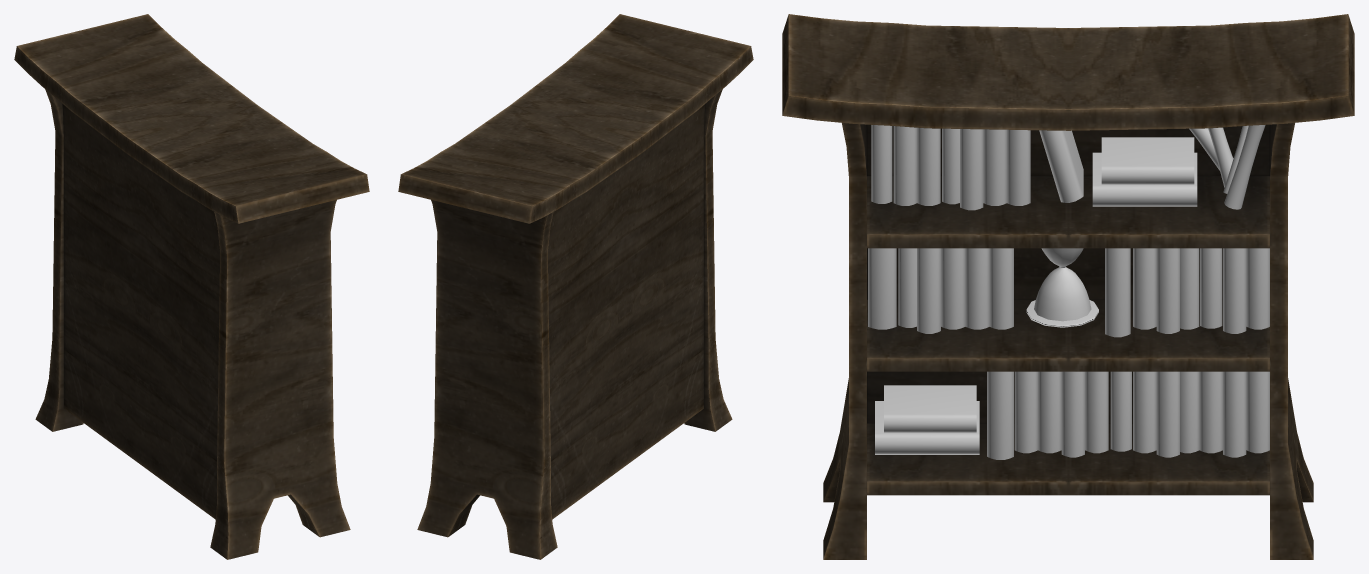
Rendered from mdl_LibreroConLibros.fbx.
The picture shows the model from 3 angles, left to right: view 1: azimuth 30°, elevation 25°; view 2: azimuth 150°, elevation 25°; view 3: azimuth 270°, elevation 25°; orthographic projection. The views are drawn at different scales.
Parts seen in each view (by area): view 1: mdl_Librero_Back, mdl_Librero_SideL, mdl_Librero_Top, mdl_Librero_SideR; view 2: mdl_Librero_Back, mdl_Librero_SideR, mdl_Librero_Top, mdl_Librero_SideL; view 3: mdl_Librero_Top, mdl_Librero_Repisa1, mdl_Librero_Repisa3, mdl_Librero_Repisa2, mdl_Libro_Azul2, mdl_Librero_SideR, mdl_Librero_SideL, mdl_Librero_Back, mdl_Libro_Naranja5, mdl_Libro_Naranja6, mdl_RelojArena2, mdl_Libro_Cafe6 (+30 smaller).
Boxes of the visible parts, box(x1,y1,x2,y2) form: mdl_Librero_Back: box(62, 104, 219, 519); mdl_Librero_SideL: box(210, 200, 350, 559); mdl_Librero_Top: box(14, 14, 369, 223); mdl_Librero_SideR: box(35, 89, 83, 431); mdl_Librero_Back: box(548, 104, 705, 519); mdl_Librero_SideR: box(417, 200, 557, 559); mdl_Librero_Top: box(398, 14, 753, 223); mdl_Librero_SideL: box(684, 89, 732, 431); mdl_Librero_Top: box(782, 14, 1354, 130); mdl_Librero_Repisa1: box(867, 176, 1269, 248); mdl_Librero_Repisa3: box(867, 299, 1269, 371); mdl_Librero_Repisa2: box(867, 423, 1269, 495); mdl_Libro_Azul2: box(868, 248, 1013, 333); mdl_Librero_SideR: box(1270, 123, 1313, 559); mdl_Librero_SideL: box(823, 123, 866, 559); mdl_Librero_Back: box(867, 124, 1269, 423); mdl_Libro_Naranja5: box(884, 385, 976, 433); mdl_Libro_Naranja6: box(1101, 137, 1194, 184); mdl_RelojArena2: box(1026, 248, 1098, 327); mdl_Libro_Cafe6: box(1092, 152, 1197, 206).
Size of the model in its own units: 0.7897 by 2.1 by 2.33.
